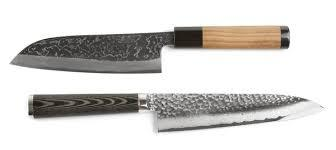Knife: (9, 24, 290, 73), (27, 91, 325, 132)
